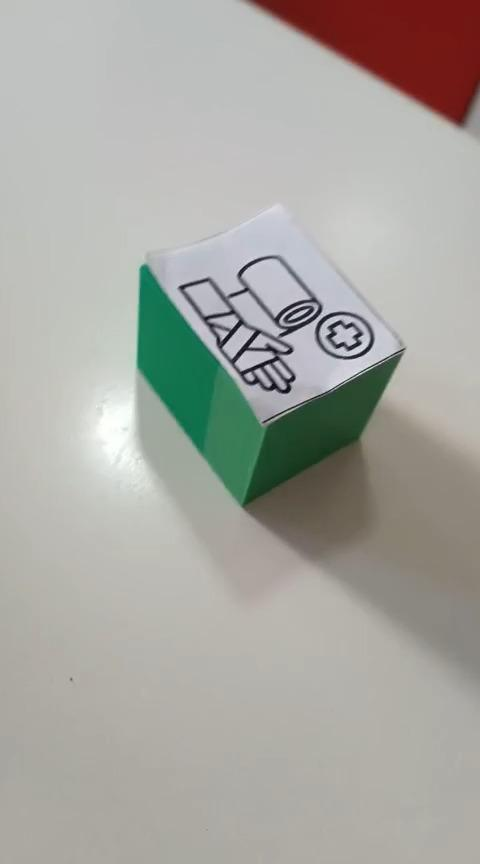Bandages: (134, 201, 406, 507)
